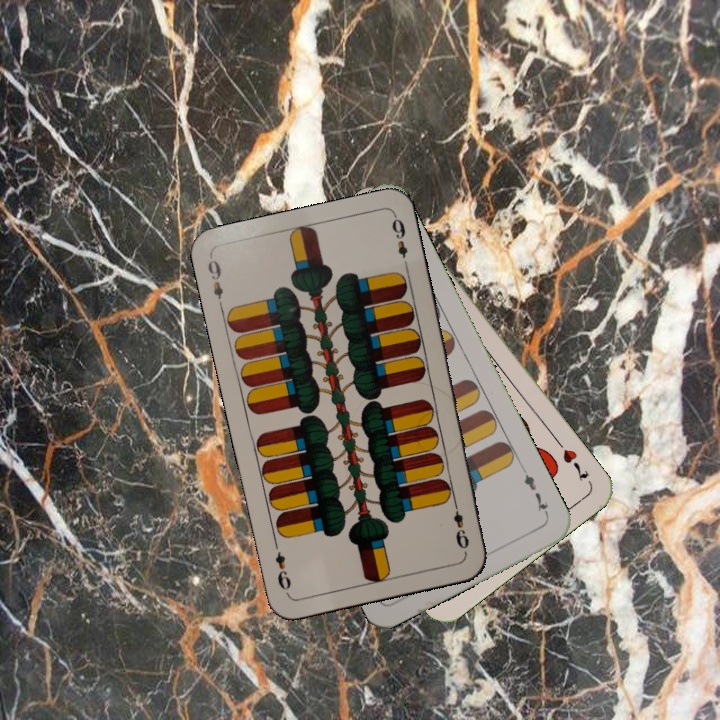E7: (518, 464, 552, 520)
E9: (449, 496, 472, 555), (203, 253, 226, 312)
H7: (552, 435, 592, 484)
